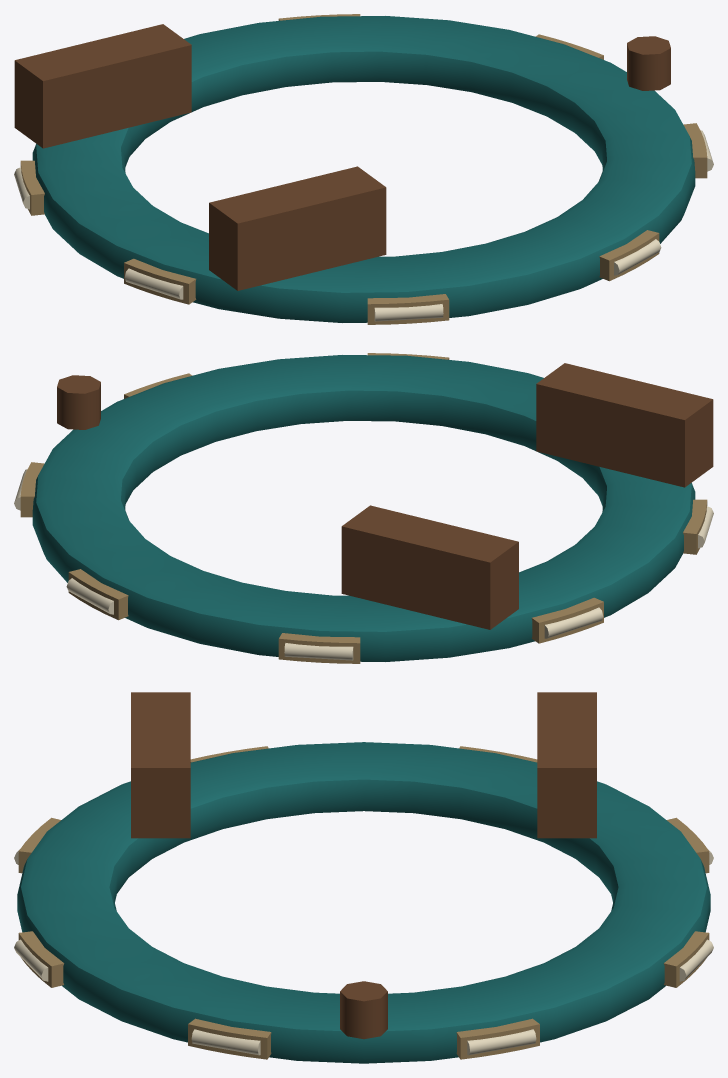
File: k1_mount.obj
The picture shows the model from 3 angles, top to bottom: view 1: azimuth 30°, elevation 25°; view 2: azimuth 150°, elevation 25°; view 3: azimuth 270°, elevation 25°; orthographic projection. The views are drawn at different scales.
Parts seen in each view (by area): view 1: k1_mount; view 2: k1_mount; view 3: k1_mount.
Boxes of the visible parts, x1,y1,x2,y2 form: k1_mount: (14,14,713,324); k1_mount: (14,353,713,663); k1_mount: (14,692,713,1063).
Bounding box in the file's own units: 1.2 × 0.2 × 1.17.
